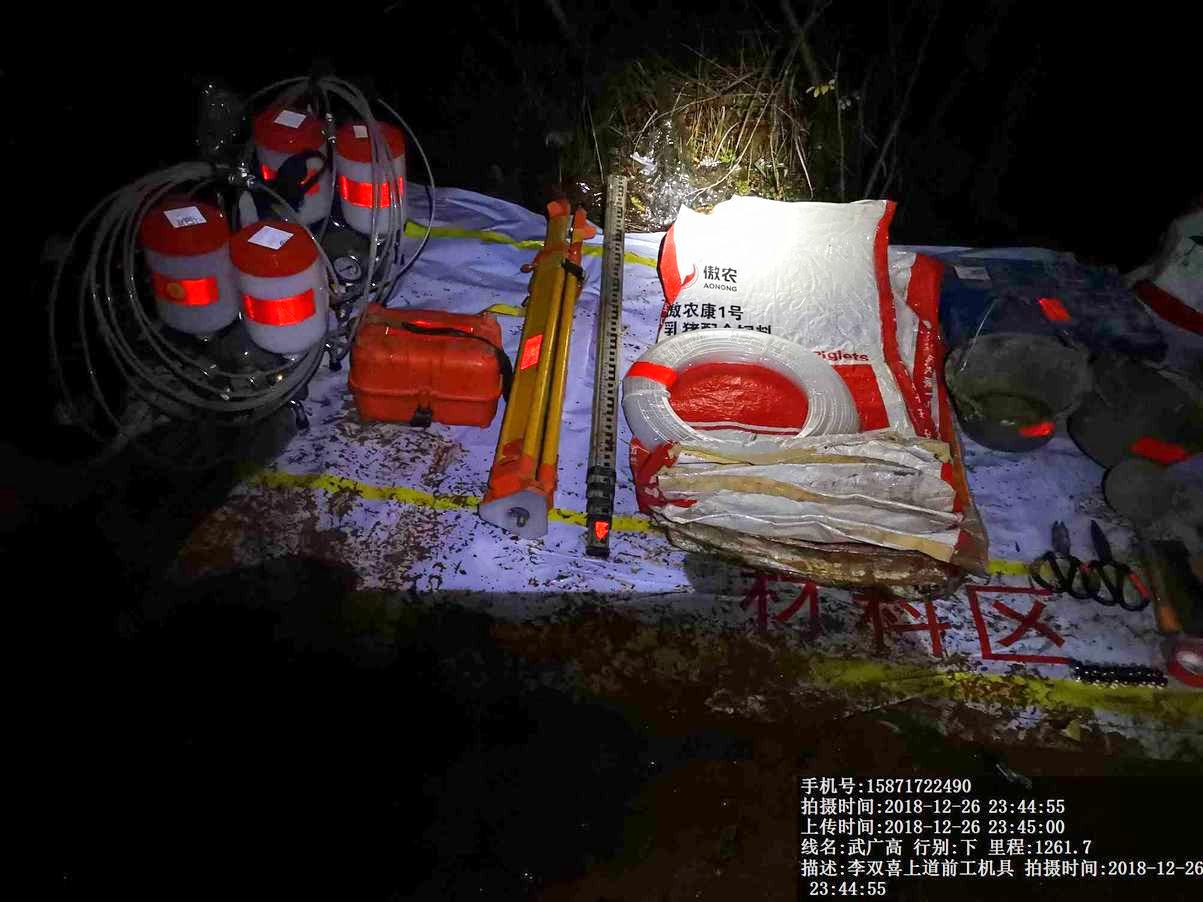BZD: (655, 200, 992, 609)
SG: (620, 330, 860, 439)
